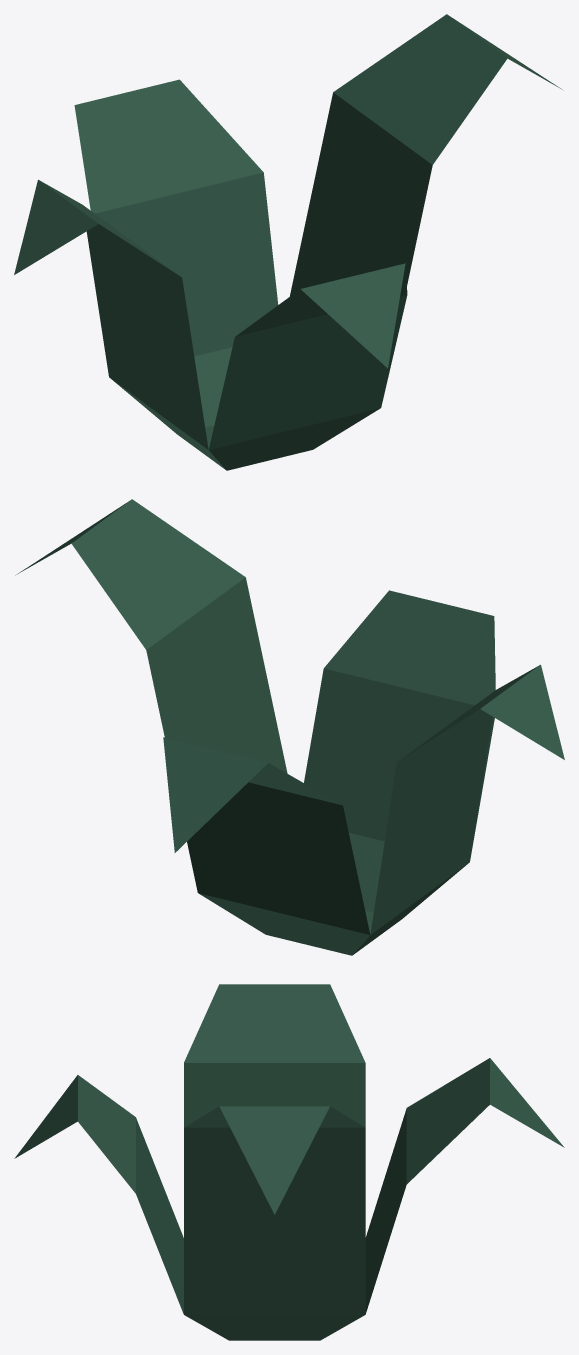
The model's file is Plant_3_01.obj.
3 renders of one model, top to bottom at view 1: azimuth 30°, elevation 25°; view 2: azimuth 150°, elevation 25°; view 3: azimuth 270°, elevation 25°, orthographic. The views are drawn at different scales.
Parts seen in each view (by area): view 1: Mesh1_Plant_3_Model; view 2: Mesh1_Plant_3_Model; view 3: Mesh1_Plant_3_Model.
Boxes of the visible parts, <box> form: Mesh1_Plant_3_Model: <box>14,14,563,470</box>; Mesh1_Plant_3_Model: <box>15,499,564,955</box>; Mesh1_Plant_3_Model: <box>14,984,564,1340</box>.
Bounding box in the file's own units: 1.15 × 0.6961 × 1.09.
